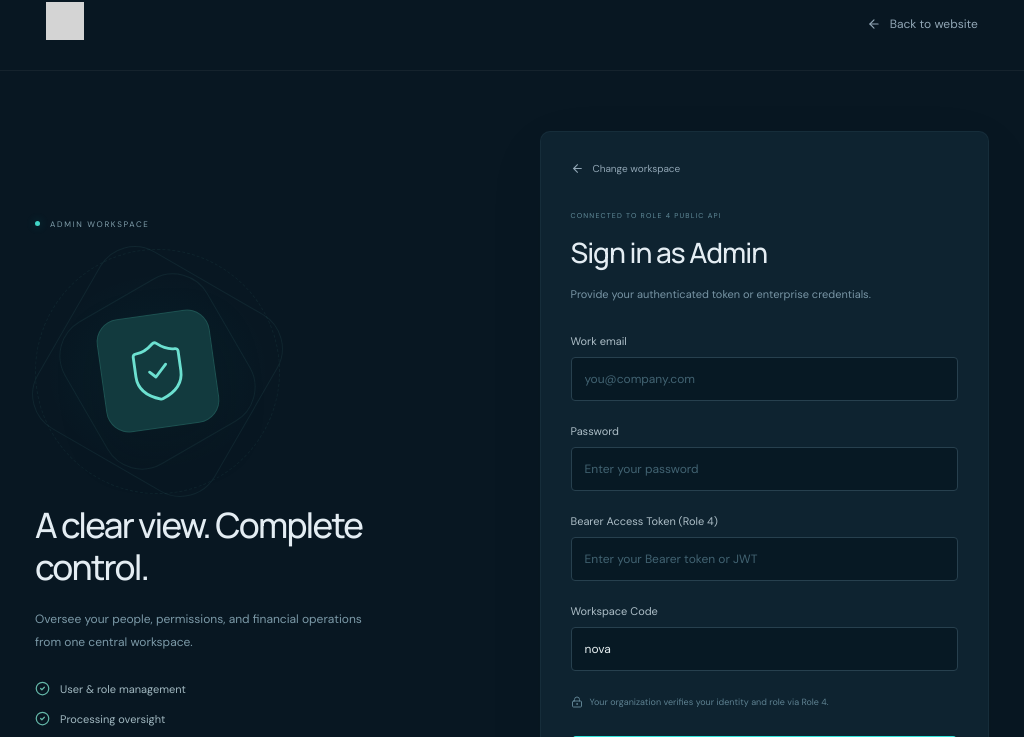
Test: Workspaces Component Tests › displays auth error banner when identity service is not configured
Type "admin@company.com" into the field labelled "Work email" at {"x": 764, "y": 379}, box left=570, top=357, right=958, bottom=401
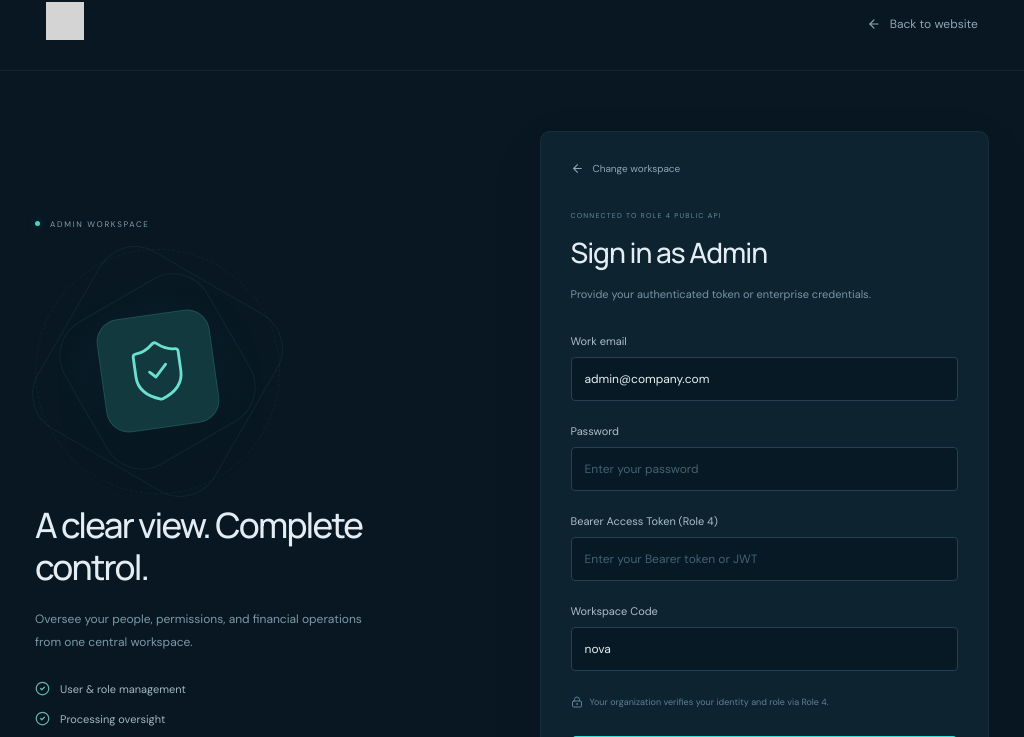
Type "password123" into the password field labelled "Password" at {"x": 764, "y": 469}, box left=570, top=447, right=958, bottom=491
(page scrolled)
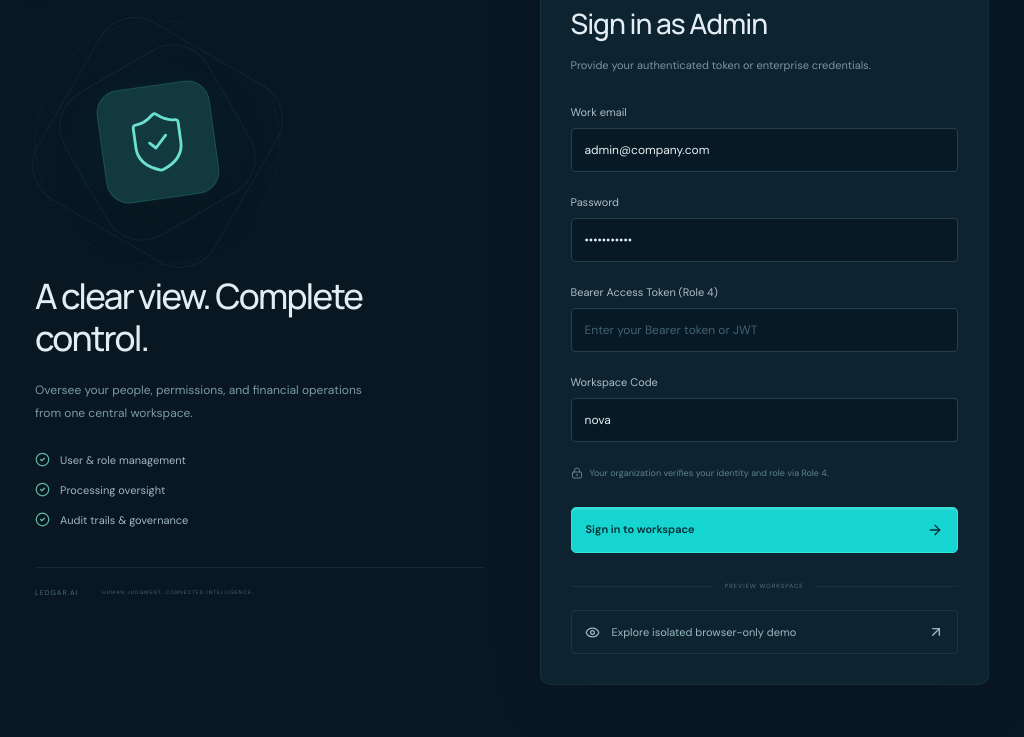
Click the button "Sign in to workspace" at {"x": 640, "y": 529}, box left=570, top=507, right=958, bottom=553
(page scrolled)
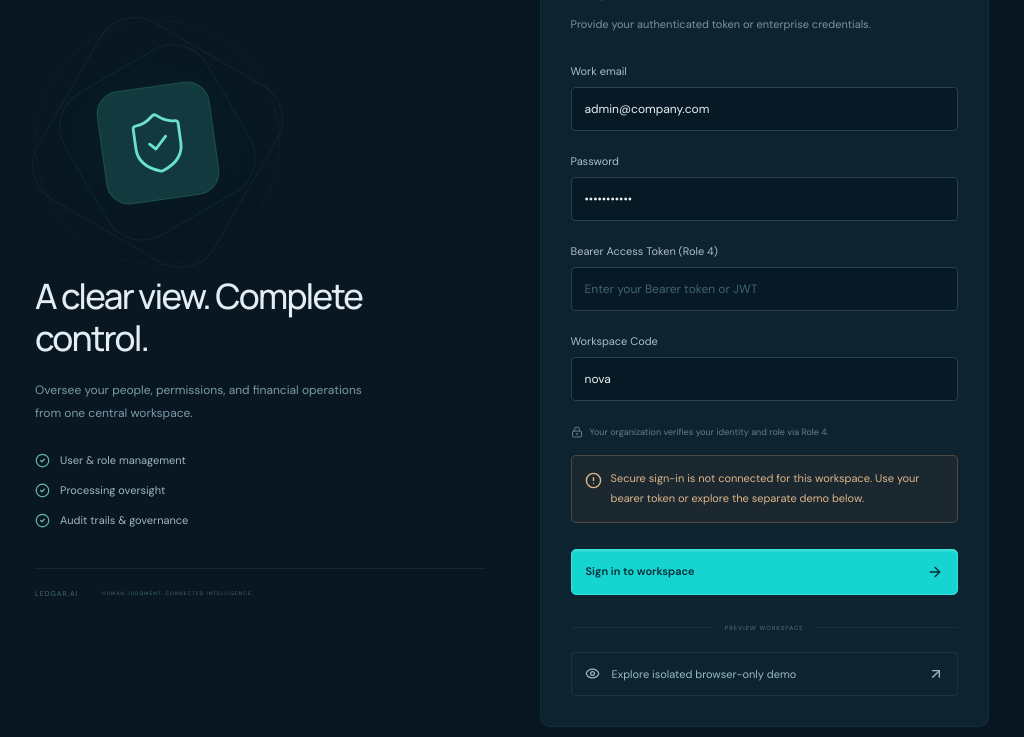
Expected: the message is shown, left=570, top=455, right=958, bottom=523
Expected: the message shows "Secure sign-in is not connected", left=610, top=471, right=919, bottom=505
